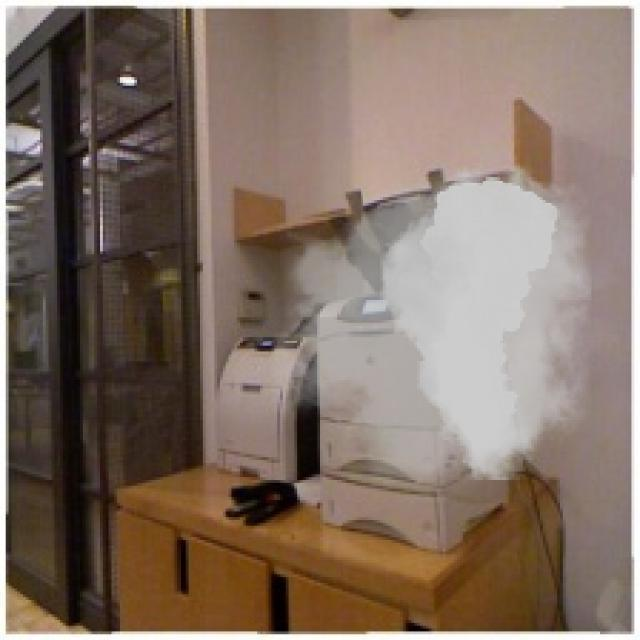Smoke: (248, 154, 620, 503)
